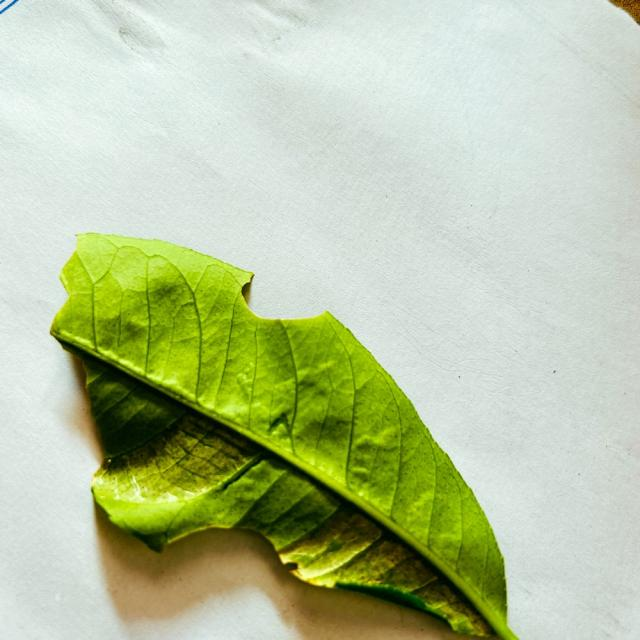Deficiency Leaf: (291, 586, 455, 639), (160, 529, 277, 601), (44, 346, 101, 490), (241, 271, 326, 317)
Lemon: (51, 234, 517, 639)
